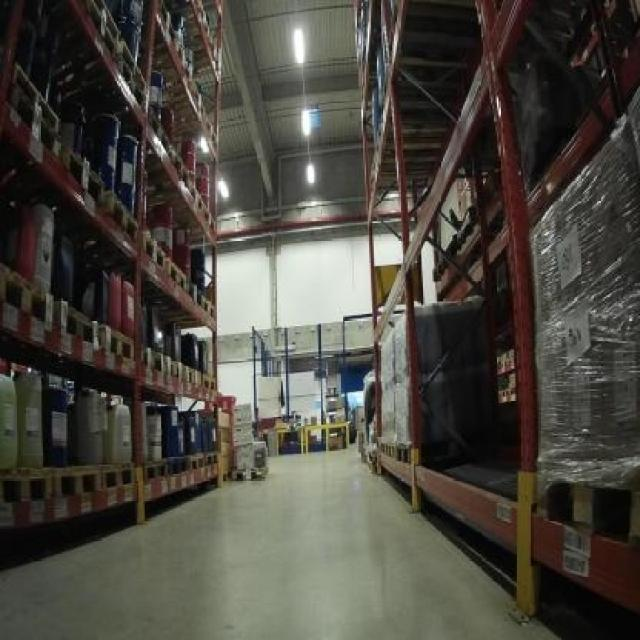floor: (0, 446, 555, 637)
pallets: (355, 0, 637, 612), (375, 228, 402, 297)
